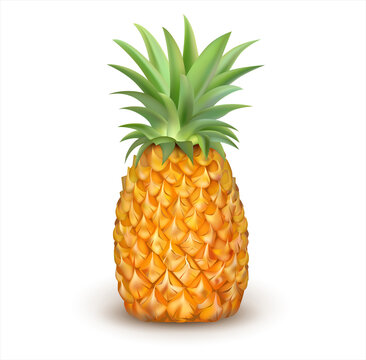Pineapple: (109, 19, 264, 324)
